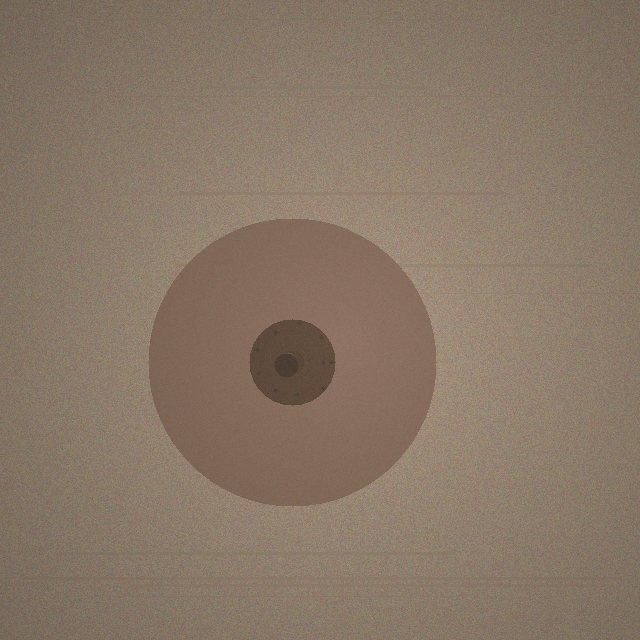cold_weld: (148, 218, 436, 506)
